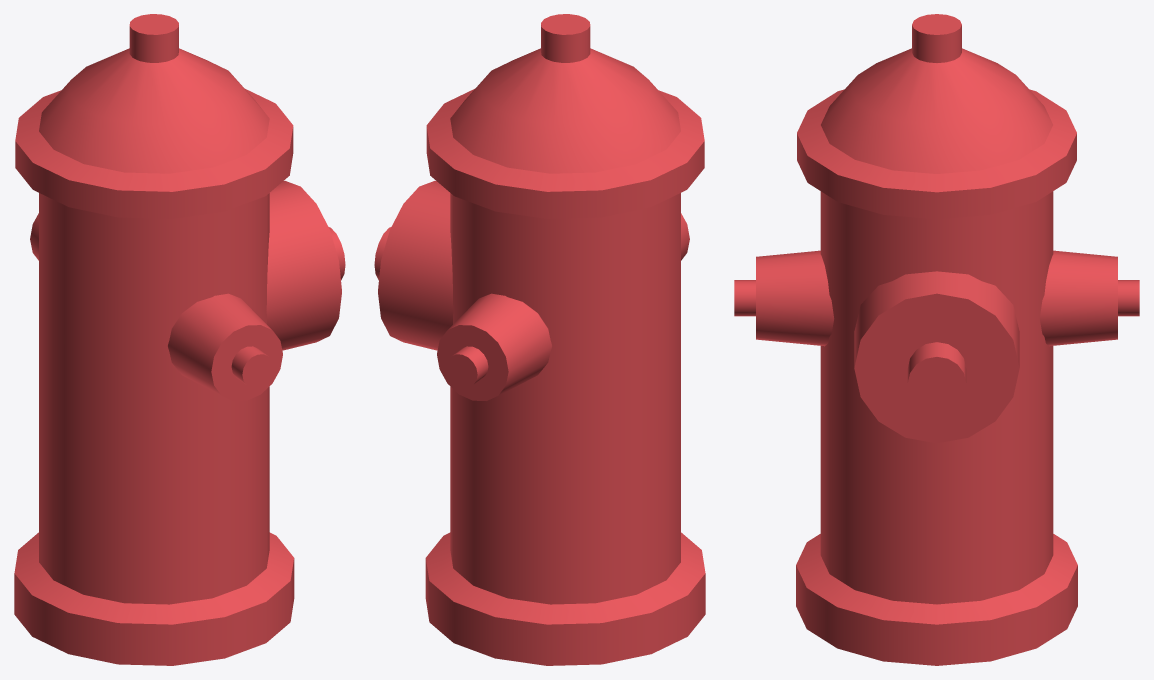
The model's file is Fire Hydrant.glb.
3 renders of one model, left to right at view 1: azimuth 30°, elevation 25°; view 2: azimuth 150°, elevation 25°; view 3: azimuth 270°, elevation 25°, orthographic.
Parts seen in each view (by area): view 1: Fire Hydrant; view 2: Fire Hydrant; view 3: Fire Hydrant.
Part boxes in pixels (bbox=[...]): Fire Hydrant: bbox=[14, 14, 345, 665]; Fire Hydrant: bbox=[374, 14, 705, 665]; Fire Hydrant: bbox=[734, 14, 1139, 665].
Bounding box in the file's own units: 0.2081 × 0.3877 × 0.2448.
